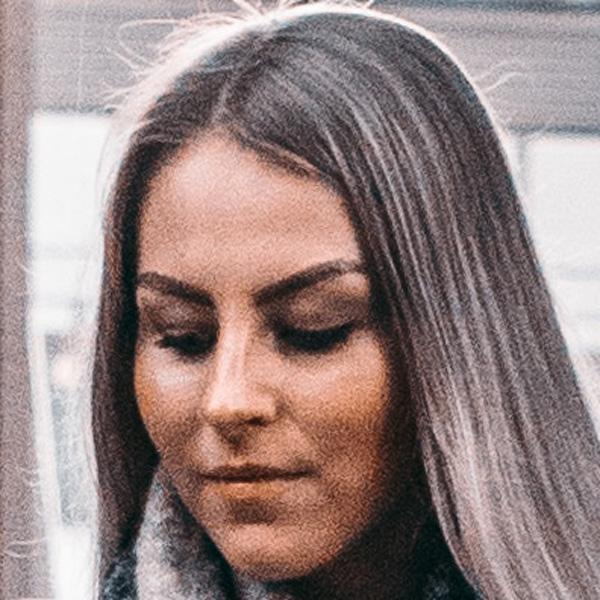Eyes: (269, 302, 364, 363), (143, 307, 223, 367)
